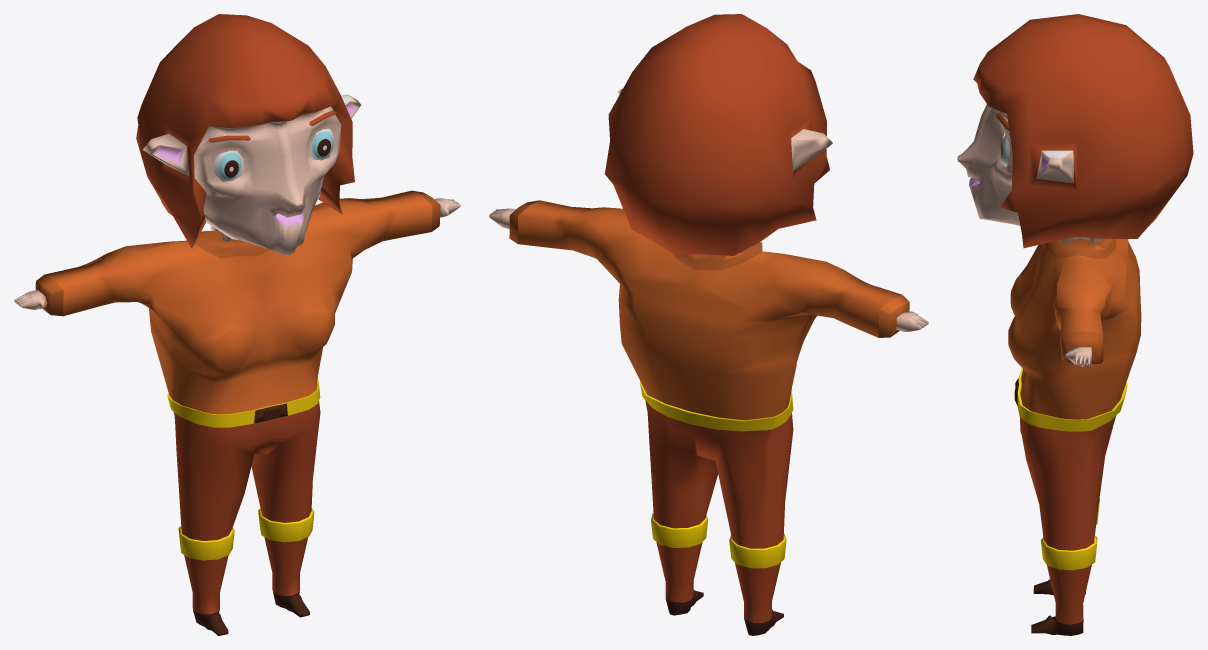
File: postaccopy.fbx
3 views of the same model, side by side, from view 1: azimuth 30°, elevation 25°; view 2: azimuth 150°, elevation 25°; view 3: azimuth 270°, elevation 25° (orthographic).
Parts seen in each view (by area): view 1: Model; view 2: Model; view 3: Model.
Part boxes in pixels (x1,y1,x2,y2): Model: (14, 14, 460, 635); Model: (489, 14, 928, 635); Model: (957, 14, 1193, 635).
Size of the model in its own units: 274 by 355 by 128.
